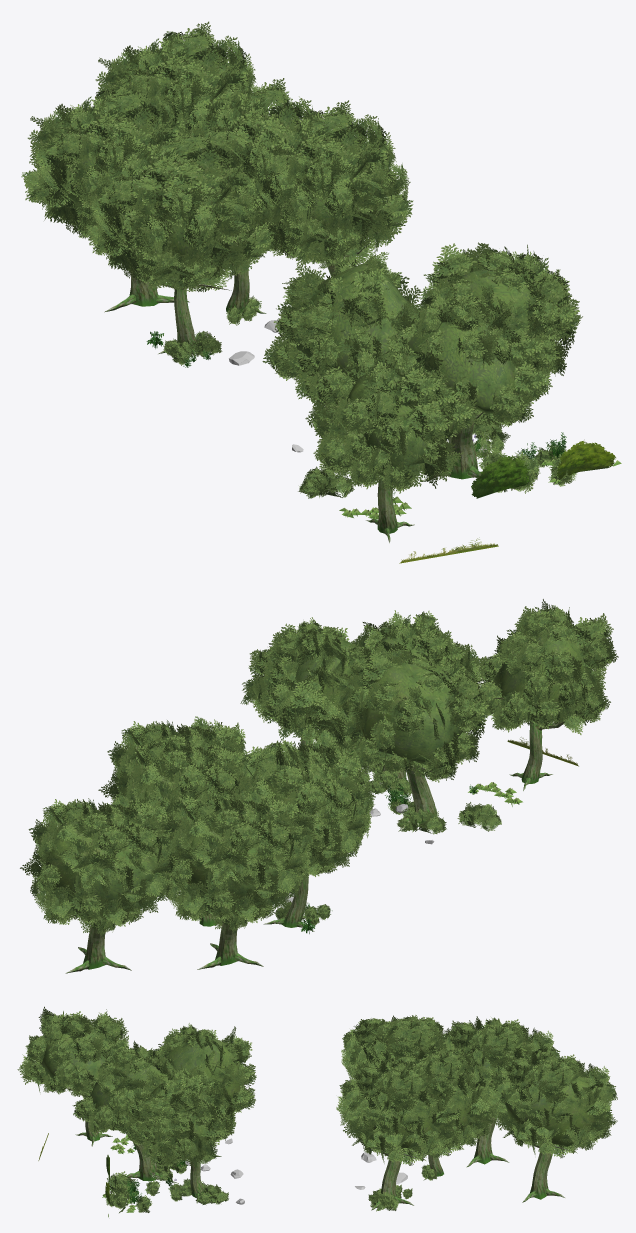
The model's file is very close trees.fbx.
3 renders of one model, top to bottom at view 1: azimuth 30°, elevation 25°; view 2: azimuth 150°, elevation 25°; view 3: azimuth 270°, elevation 25°, orthographic. The views are drawn at different scales.
Parts seen in each view (by area): view 1: polySurface46020 (×3), polySurface47755, polySurface47757, polySurface47769, polySurface47762, polySurface47828, polySurface47752, pCube200, pCube201 (×2), pCube199, polySurface47756, polySurface47764 (+7 smaller); view 2: polySurface46020 (×3), polySurface47757, polySurface47828, polySurface47755, polySurface47762, polySurface47752, pCube199, pCube196 (×2), polySurface47769, pCube201 (×2), polySurface47825, polySurface47807 (+8 smaller); view 3: polySurface46020 (×3), polySurface47828, polySurface47757, polySurface47752, polySurface47755, polySurface47769, polySurface47762, pCube196 (×3), pCube199, pCube201 (×2), polySurface47764, pCube200 (+9 smaller).
Boxes of the visible parts, <box> form: polySurface46020 (×3): <box>21,21,413,269</box>; polySurface47755: <box>87,128,275,292</box>; polySurface47757: <box>305,338,477,493</box>; polySurface47769: <box>378,285,552,426</box>; polySurface47762: <box>262,252,421,409</box>; polySurface47828: <box>417,242,582,376</box>; polySurface47752: <box>179,78,331,256</box>; pCube200: <box>405,308,516,414</box>; pCube201 (×2): <box>347,269,539,482</box>; pCube199: <box>289,263,416,374</box>; polySurface47756: <box>146,295,261,367</box>; polySurface47764: <box>339,432,621,519</box>; polySurface46020 (×3): <box>20,716,316,936</box>; polySurface47757: <box>476,599,618,734</box>; polySurface47828: <box>240,617,377,752</box>; polySurface47755: <box>229,735,375,878</box>; polySurface47762: <box>343,650,490,782</box>; polySurface47752: <box>115,739,249,827</box>; pCube199: <box>359,662,463,765</box>; pCube196 (×2): <box>45,818,284,909</box>; polySurface47769: <box>358,610,484,689</box>; pCube201 (×2): <box>286,634,592,724</box>; polySurface47825: <box>493,671,577,790</box>; polySurface47807: <box>197,919,263,969</box>; polySurface46020 (×3): <box>336,1016,617,1165</box>; polySurface47828: <box>122,1064,236,1166</box>; polySurface47757: <box>17,1006,129,1097</box>; polySurface47752: <box>387,1047,495,1155</box>; polySurface47755: <box>341,1015,454,1079</box>; polySurface47769: <box>72,1040,176,1134</box>; polySurface47762: <box>147,1023,256,1118</box>; pCube196 (×3): <box>362,1041,601,1150</box>; pCube199: <box>162,1034,241,1105</box>; pCube201 (×2): <box>40,1025,210,1141</box>; polySurface47764: <box>102,1134,159,1217</box>; pCube200: <box>90,1061,172,1130</box>.
Size of the model in its own units: 213 by 134 by 489.
